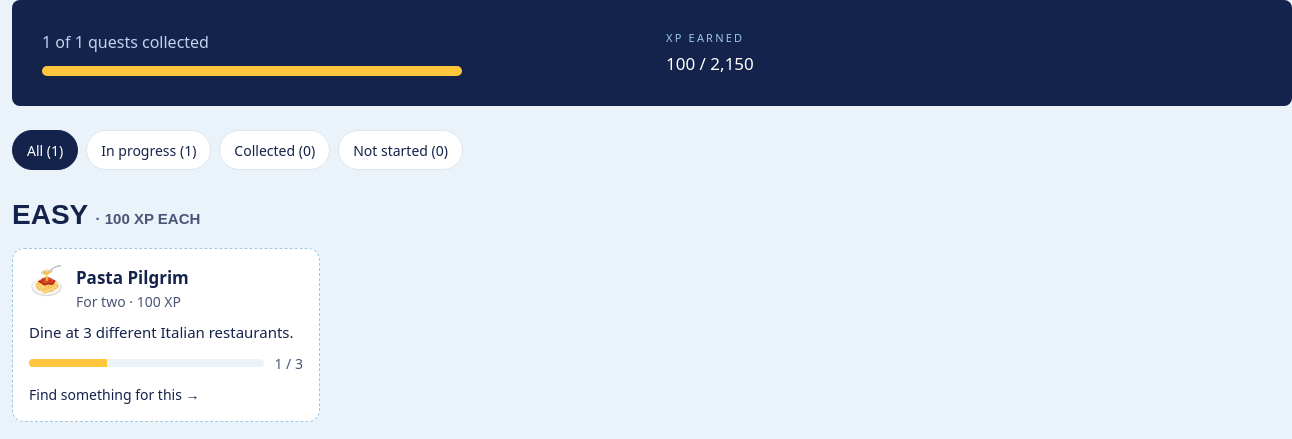
Test: CategoryQuests › a filter with nothing in it says so
Click the button "Collected (0)".
click(275, 150)  # box [219,130,330,170]
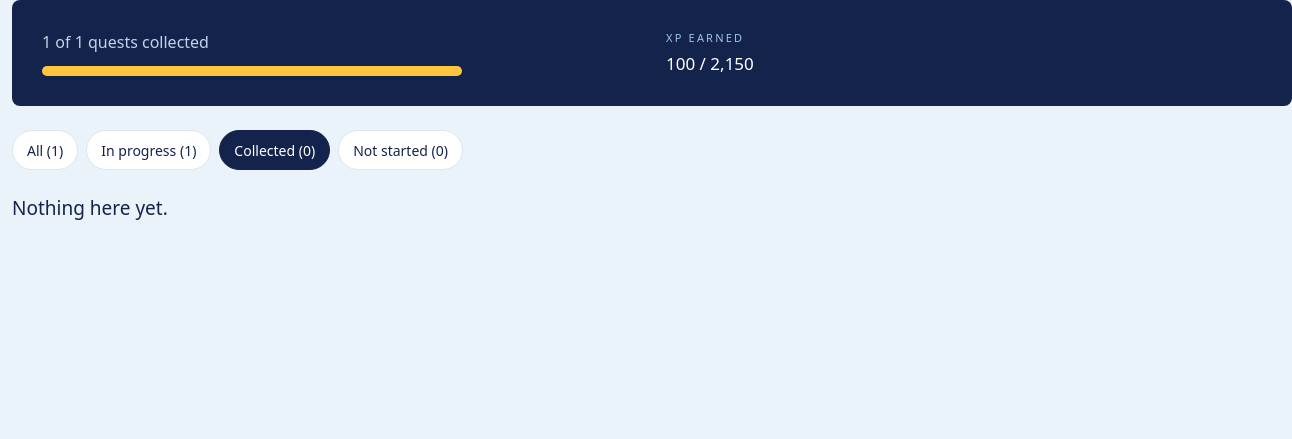
expect the text "Nothing here yet." is shown: met, box [12,195,168,221]
